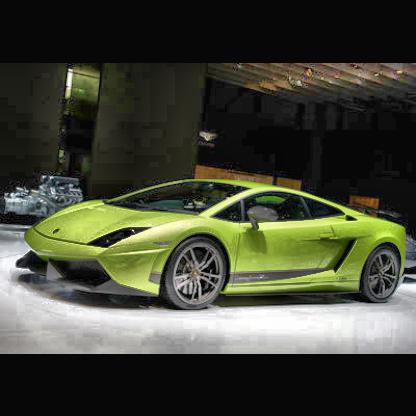Lamborghini Gallardo LP 570-4 Superleggera 2012: (19, 180, 406, 311)
